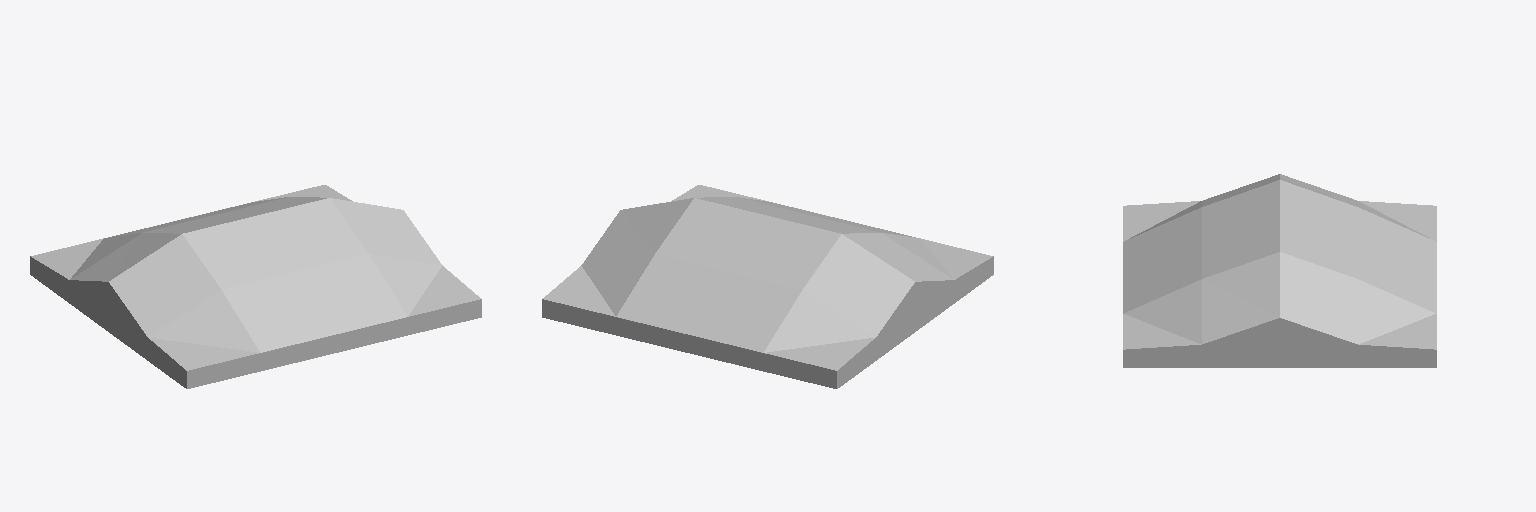
Rendered from house63.obj.
The picture shows the model from 3 angles: view 1: azimuth 30°, elevation 25°; view 2: azimuth 150°, elevation 25°; view 3: azimuth 270°, elevation 25°; orthographic projection.
Visible parts, largest first — view 1: 立方体.091; view 2: 立方体.091; view 3: 立方体.091.
Boxes of the visible parts, x1,y1,x2,y2 form: 立方体.091: [30, 185, 481, 388]; 立方体.091: [542, 185, 993, 388]; 立方体.091: [1123, 174, 1436, 367].
Bounding box in the file's own units: 50 × 13.03 × 46.